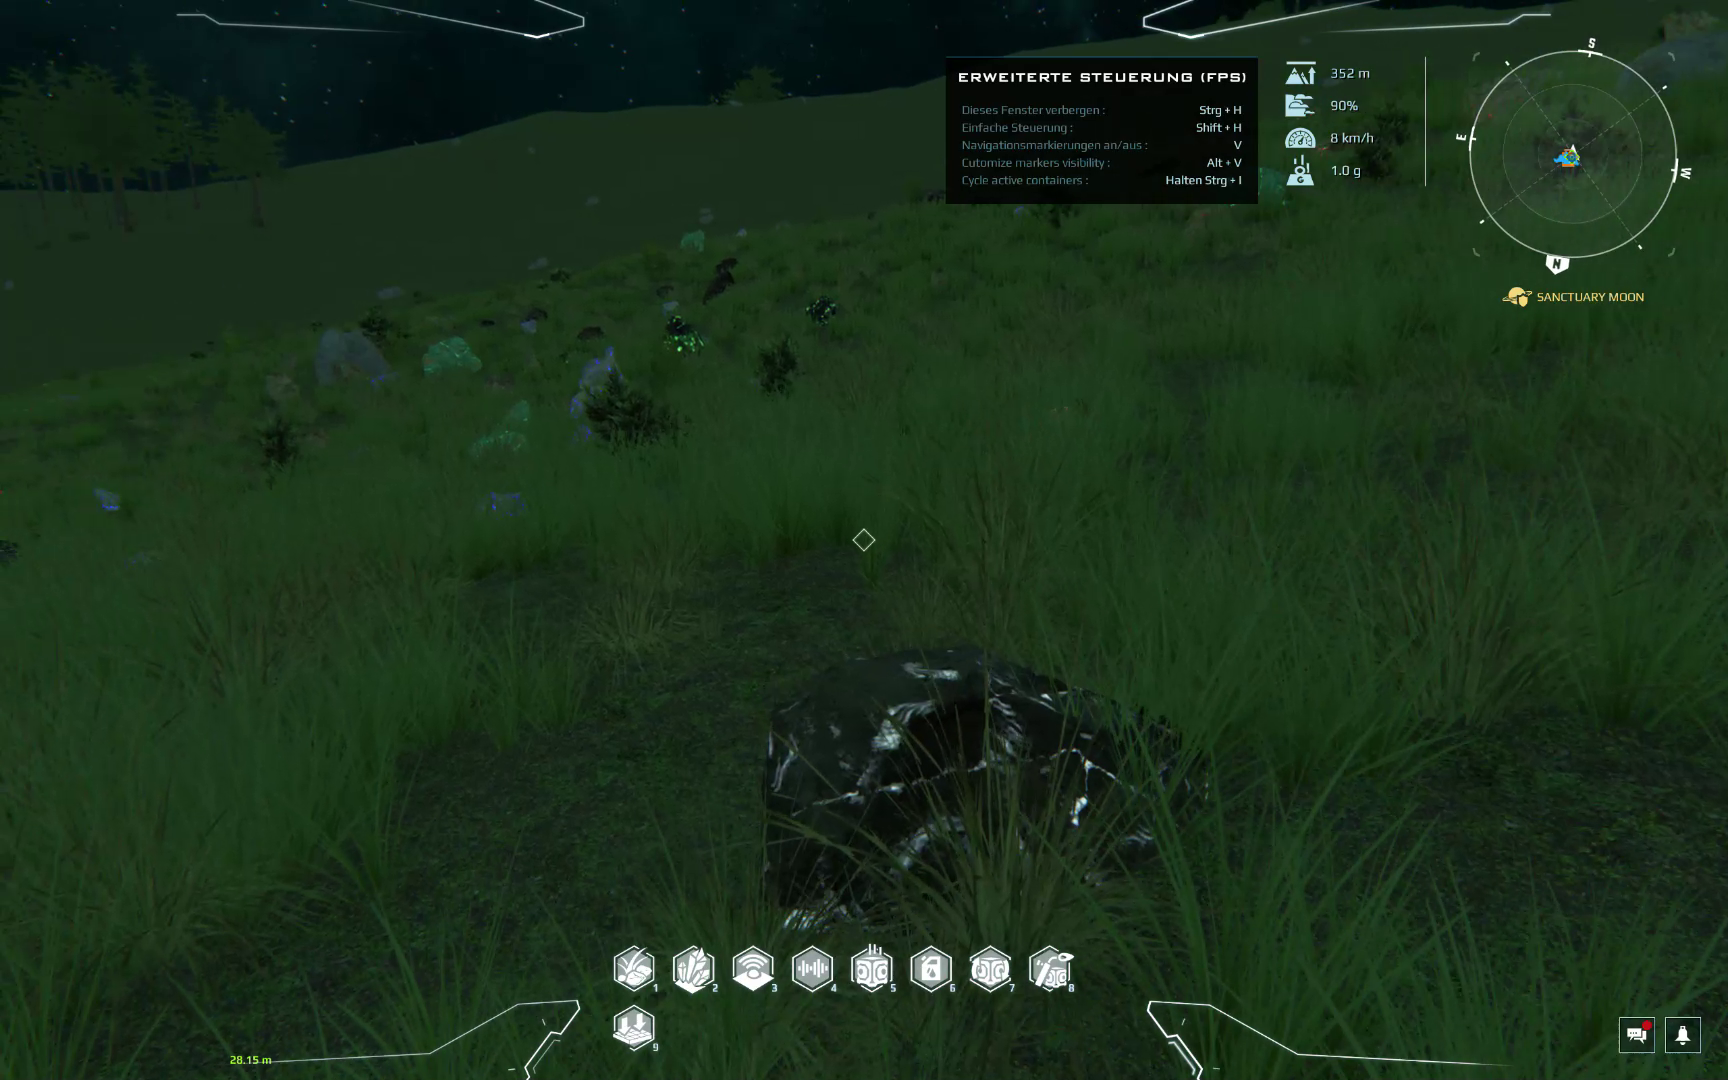Ore: (744, 622, 1225, 946), (564, 345, 628, 449), (462, 393, 537, 467), (417, 332, 486, 375), (468, 486, 541, 523), (656, 310, 710, 357), (87, 480, 134, 524), (698, 268, 743, 304), (801, 290, 845, 326), (676, 226, 712, 255)
